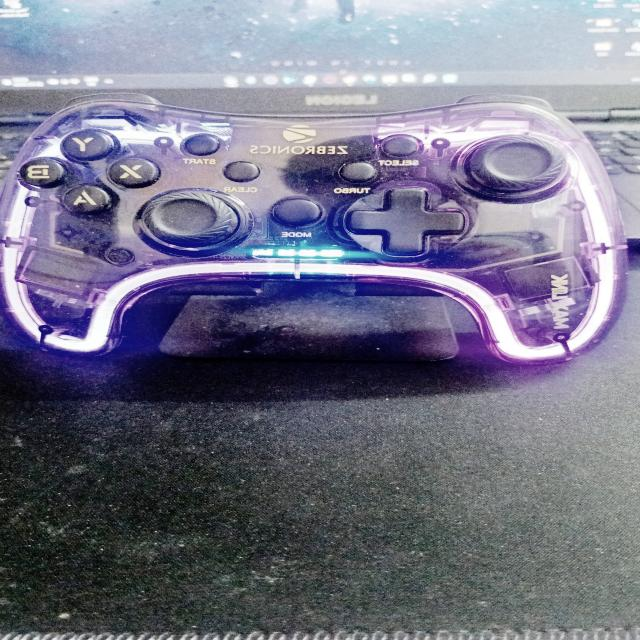gamepad: (0, 92, 629, 365)
